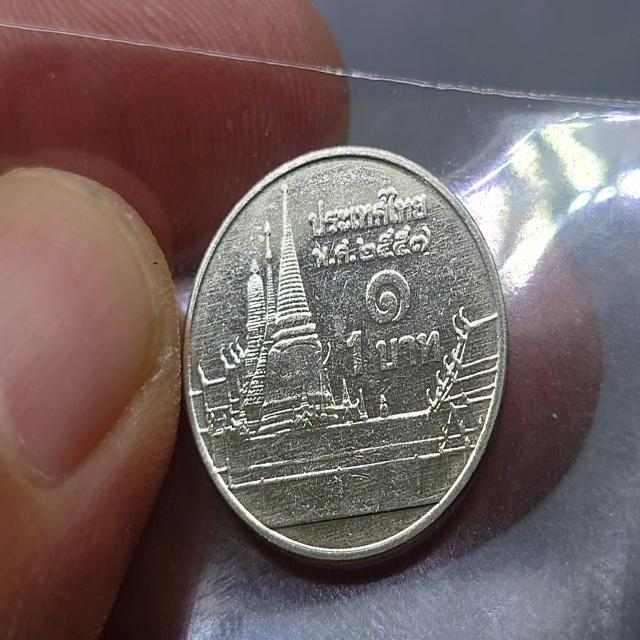1 Bath: (177, 136, 517, 579)
